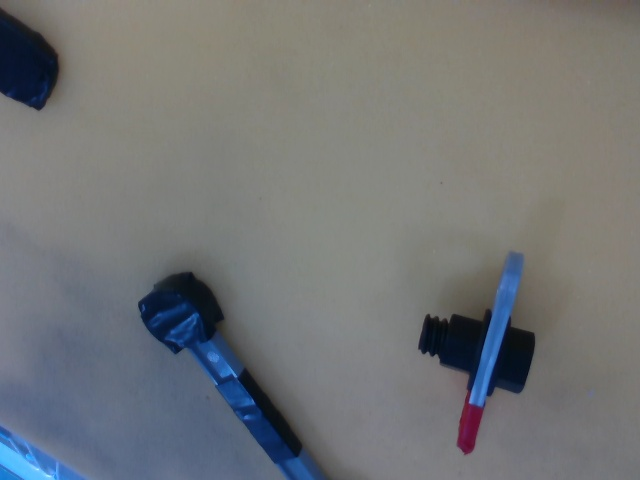part_1_good: (409, 247, 542, 461)
